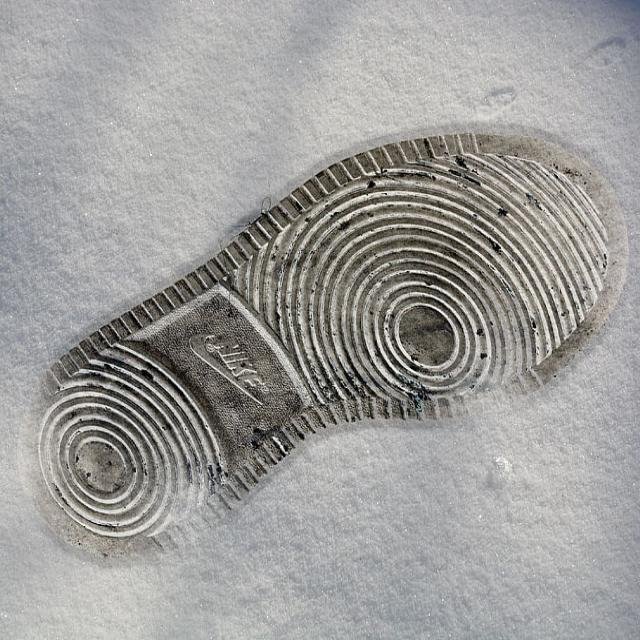human_footprint: (6, 53, 623, 623)
